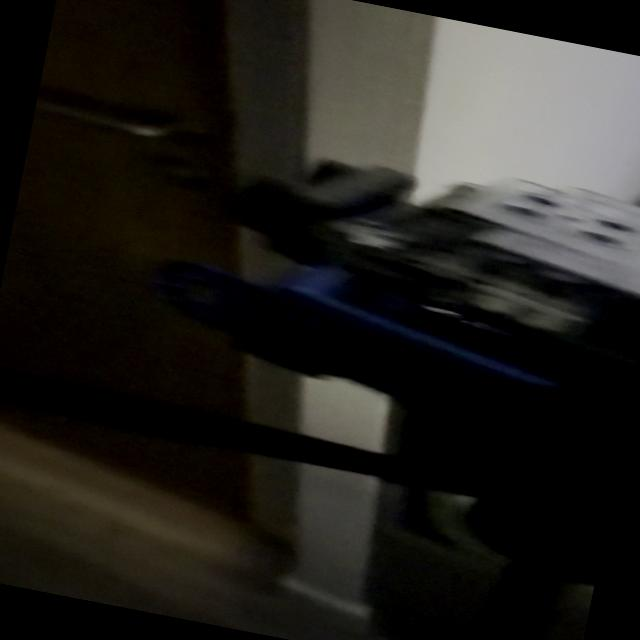mbot-detection: (105, 101, 640, 590)
